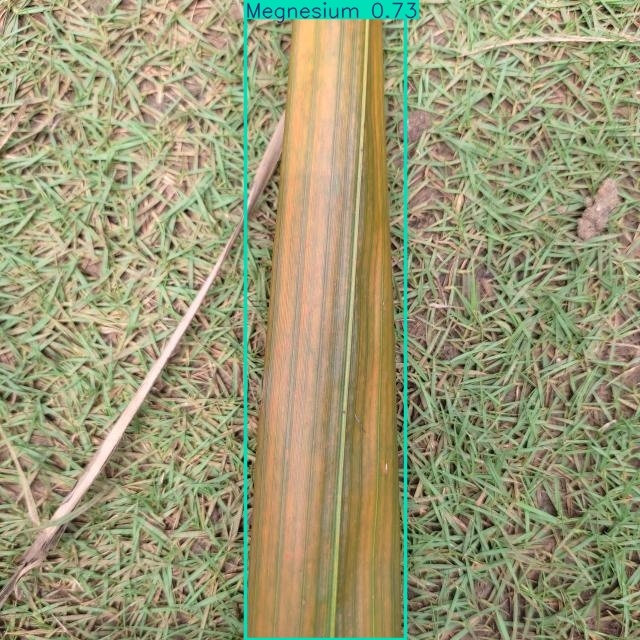Megnesium: (246, 0, 405, 640)
